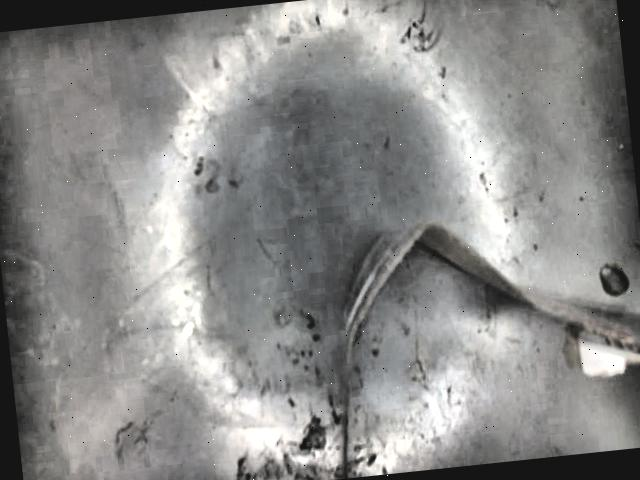Paper: (346, 222, 640, 473)
